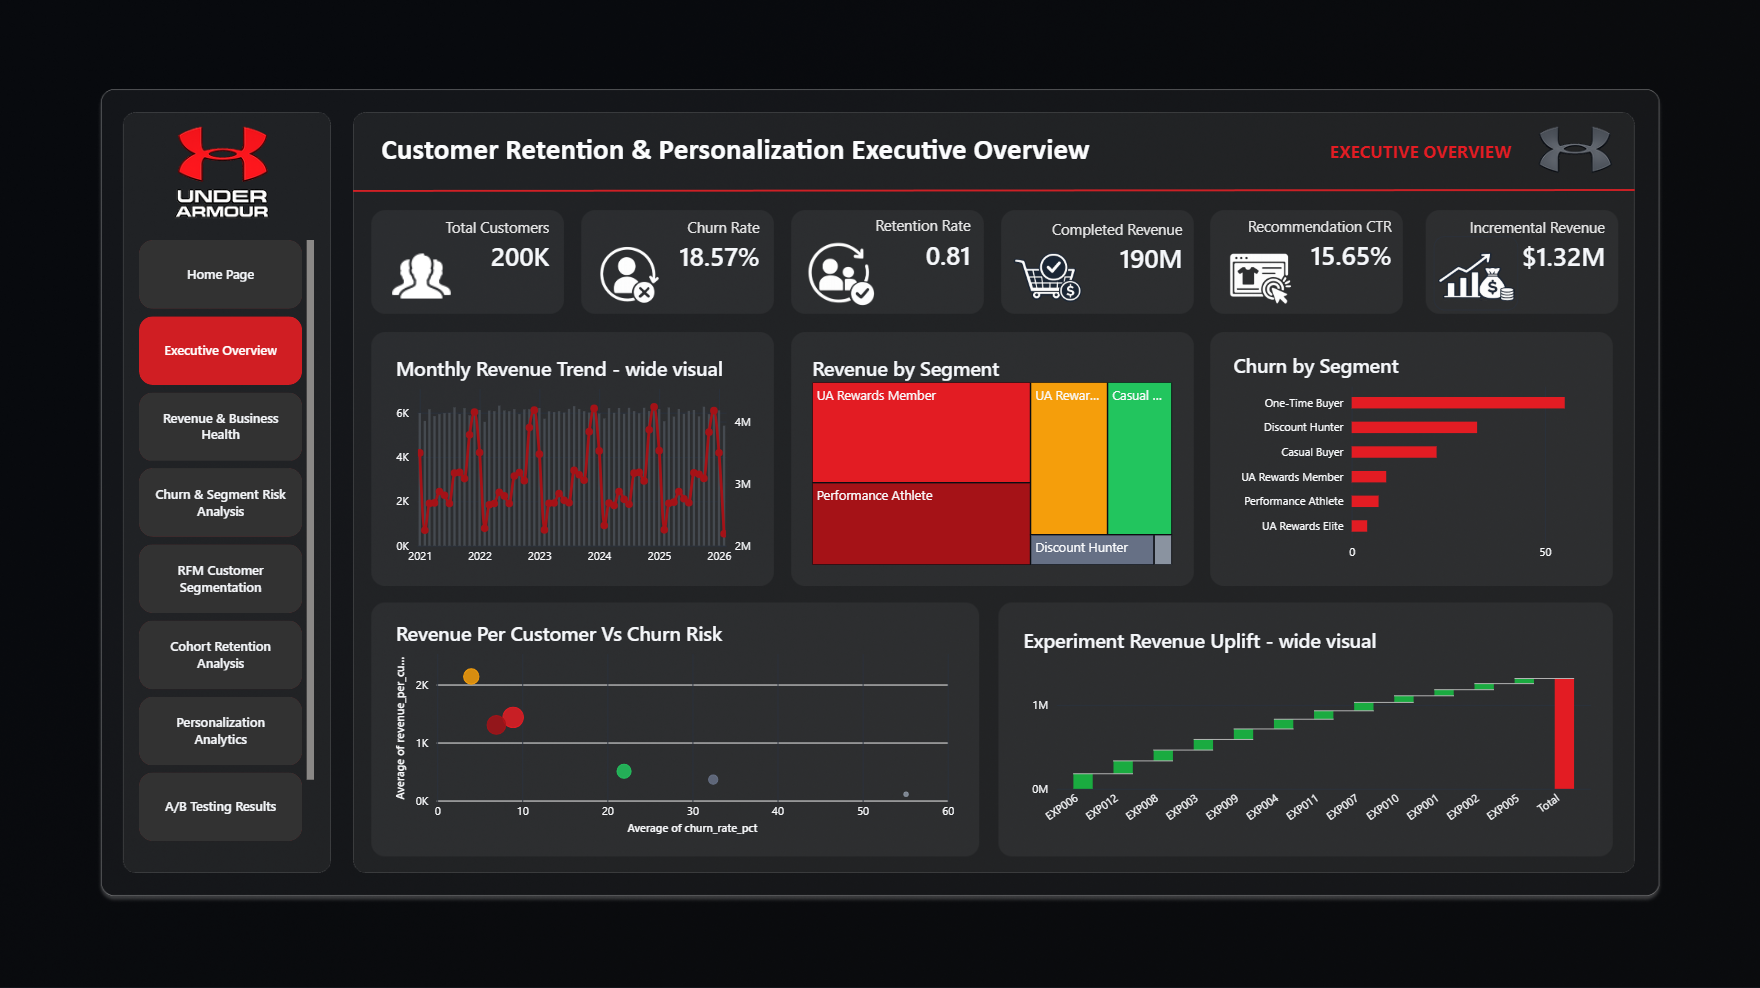

This screenshot's page, from the dashboard's own definition file:
{"tool":"powerbi","page":{"name":"Executive Overview","canvas":[1920,1080],"ordinal":1},"visuals":[{"type":"textbox","box":[444.2,129.2,837.5,65],"z":0},{"type":"cardVisual","fields":{"Data":["Sum(bi_executive_kpis.value)"]},"box":[574,215.3,150,110],"z":1000},{"type":"cardVisual","fields":{"Data":["Sum(bi_executive_kpis.value)"]},"box":[885.3,216,157.3,93.3],"z":2000},{"type":"cardVisual","fields":{"Data":["Sum(bi_executive_kpis.value)"]},"box":[1237.3,216,151.3,94.7],"z":3000},{"type":"cardVisual","fields":{"Data":["Sum(bi_executive_kpis.value)"]},"box":[1568.7,220,166.7,101.3],"z":4000},{"type":"cardVisual","fields":{"Data":["Sum(bi_executive_kpis.value)"]},"box":[636,379.3,168,100],"z":5000},{"type":"cardVisual","fields":{"Data":["Sum(bi_executive_kpis.value)"]},"box":[1056,369.3,239.3,119.3],"z":6000},{"type":"cardVisual","fields":{"Data":["Sum(bi_executive_kpis.value)"]},"box":[1557.3,375.3,165.3,104],"z":7000},{"type":"clusteredBarChart","title":"Executive Efficiency Metrics","fields":{"Category":["bi_executive_kpis.metric"],"Y":["Sum(bi_executive_kpis.value)"]},"box":[443.8,540,643.8,405],"z":8000},{"type":"funnel","title":"Funnel Stage Health","fields":{"Category":["bi_funnel_session_summary.stage_name"],"Y":["Sum(bi_funnel_session_summary.stage_count)"]},"box":[1116.2,541.2,635,403.8],"z":9000},{"type":"pageNavigator","box":[183.3,280,200,665],"z":10000},{"type":"image","box":[476,262.7,98,87.3],"z":11000},{"type":"image","box":[804,260,90.7,87.3],"z":12000},{"type":"image","box":[1146,260.7,91.3,86.7],"z":13000},{"type":"image","box":[1478,254.7,90.7,86.7],"z":14000},{"type":"image","box":[498.9,421.1,92.2,87.8],"z":15000},{"type":"image","box":[930,422,90.7,88],"z":16000},{"type":"image","box":[1393.3,422,90.7,88],"z":17000}]}

Visuals, with their boxes on the page's 1920x1080 design canvas (x1, y1, x2, y2). These are canvas units, not pixel positions in the 1760x988 screenshot, which may show the page scaled, cropped or inside an application window:
textbox: crop(444, 129, 1282, 194)
cardVisual - Sum(bi_executive_kpis.value): crop(574, 215, 724, 325)
cardVisual - Sum(bi_executive_kpis.value): crop(885, 216, 1043, 309)
cardVisual - Sum(bi_executive_kpis.value): crop(1237, 216, 1389, 311)
cardVisual - Sum(bi_executive_kpis.value): crop(1569, 220, 1735, 321)
cardVisual - Sum(bi_executive_kpis.value): crop(636, 379, 804, 479)
cardVisual - Sum(bi_executive_kpis.value): crop(1056, 369, 1295, 489)
cardVisual - Sum(bi_executive_kpis.value): crop(1557, 375, 1723, 479)
"Executive Efficiency Metrics" clusteredBarChart: crop(444, 540, 1088, 945)
"Funnel Stage Health" funnel: crop(1116, 541, 1751, 945)
pageNavigator: crop(183, 280, 383, 945)
image: crop(476, 263, 574, 350)
image: crop(804, 260, 895, 347)
image: crop(1146, 261, 1237, 347)
image: crop(1478, 255, 1569, 341)
image: crop(499, 421, 591, 509)
image: crop(930, 422, 1021, 510)
image: crop(1393, 422, 1484, 510)
